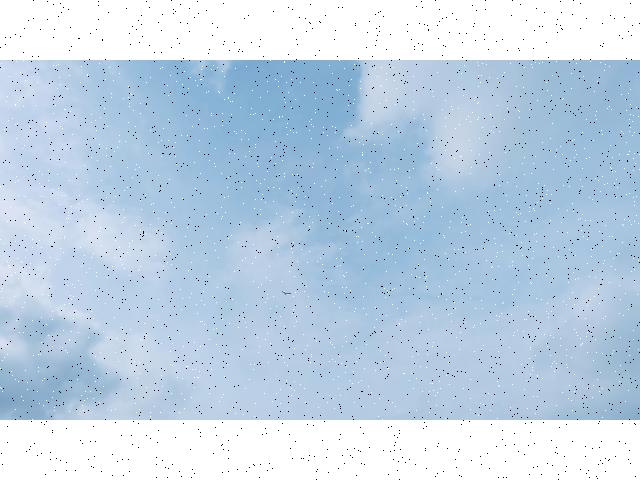Anti-Drone: (277, 284, 293, 300)
